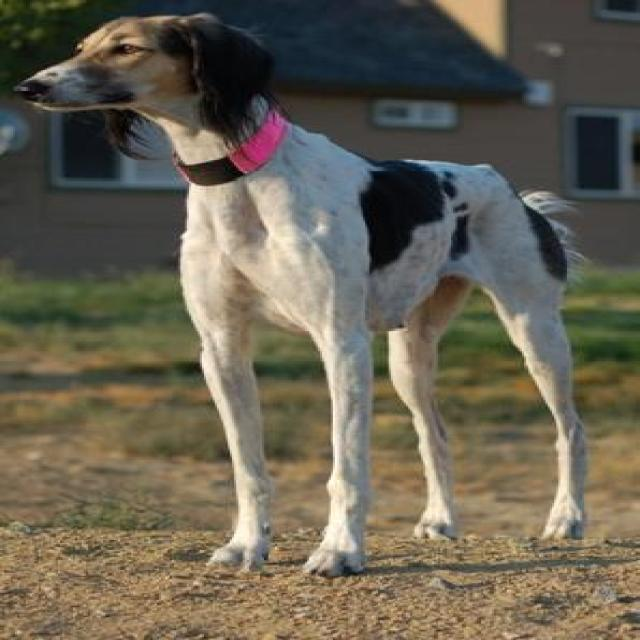dog: (10, 4, 638, 588)
